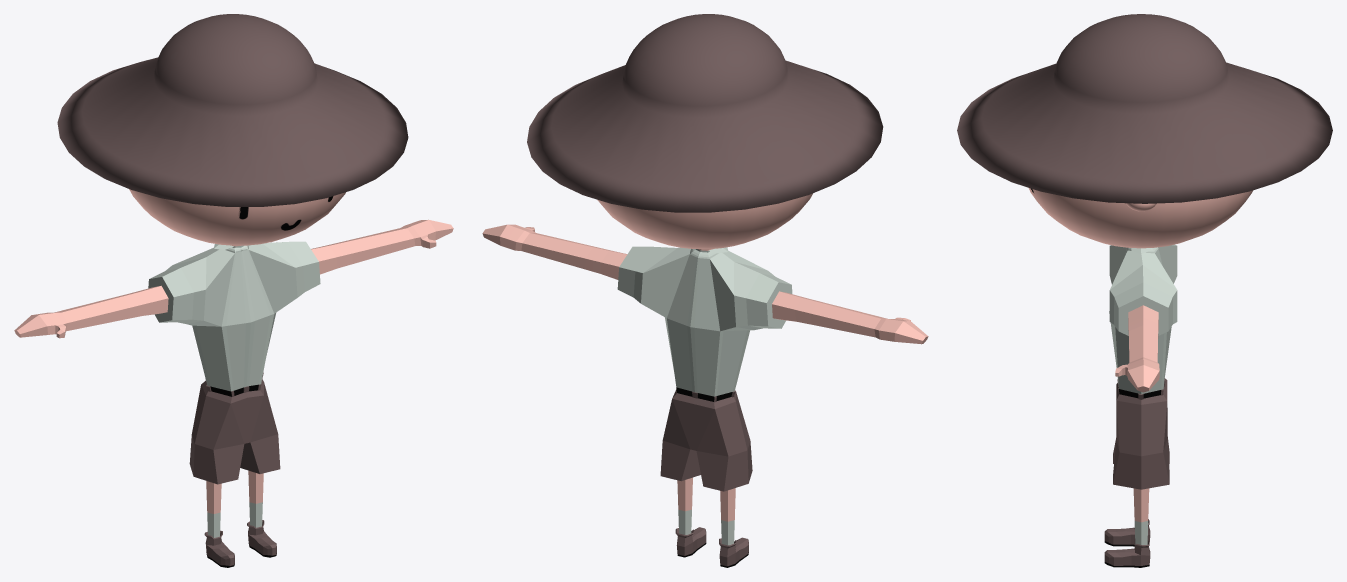
The model's file is scoutcamp_scout_char.fbx.
3 renders of one model, left to right at view 1: azimuth 30°, elevation 25°; view 2: azimuth 150°, elevation 25°; view 3: azimuth 270°, elevation 25°, orthographic.
Parts seen in each view (by area): view 1: SHat, STorso, SHead; view 2: SHat, STorso, SHead; view 3: SHat, STorso, SHead.
Boxes of the visible parts, bbox=[...] form: SHat: bbox=[57, 14, 408, 206]; STorso: bbox=[14, 219, 453, 567]; SHead: bbox=[129, 189, 345, 245]; SHat: bbox=[527, 14, 883, 212]; STorso: bbox=[482, 224, 928, 567]; SHead: bbox=[597, 193, 812, 249]; SHat: bbox=[957, 14, 1332, 203]; STorso: bbox=[1104, 244, 1177, 567]; SHead: bbox=[1028, 187, 1252, 248].
Size of the model in its own units: 257 by 297 by 190.
Materials: 2 (2 with a texture image).
